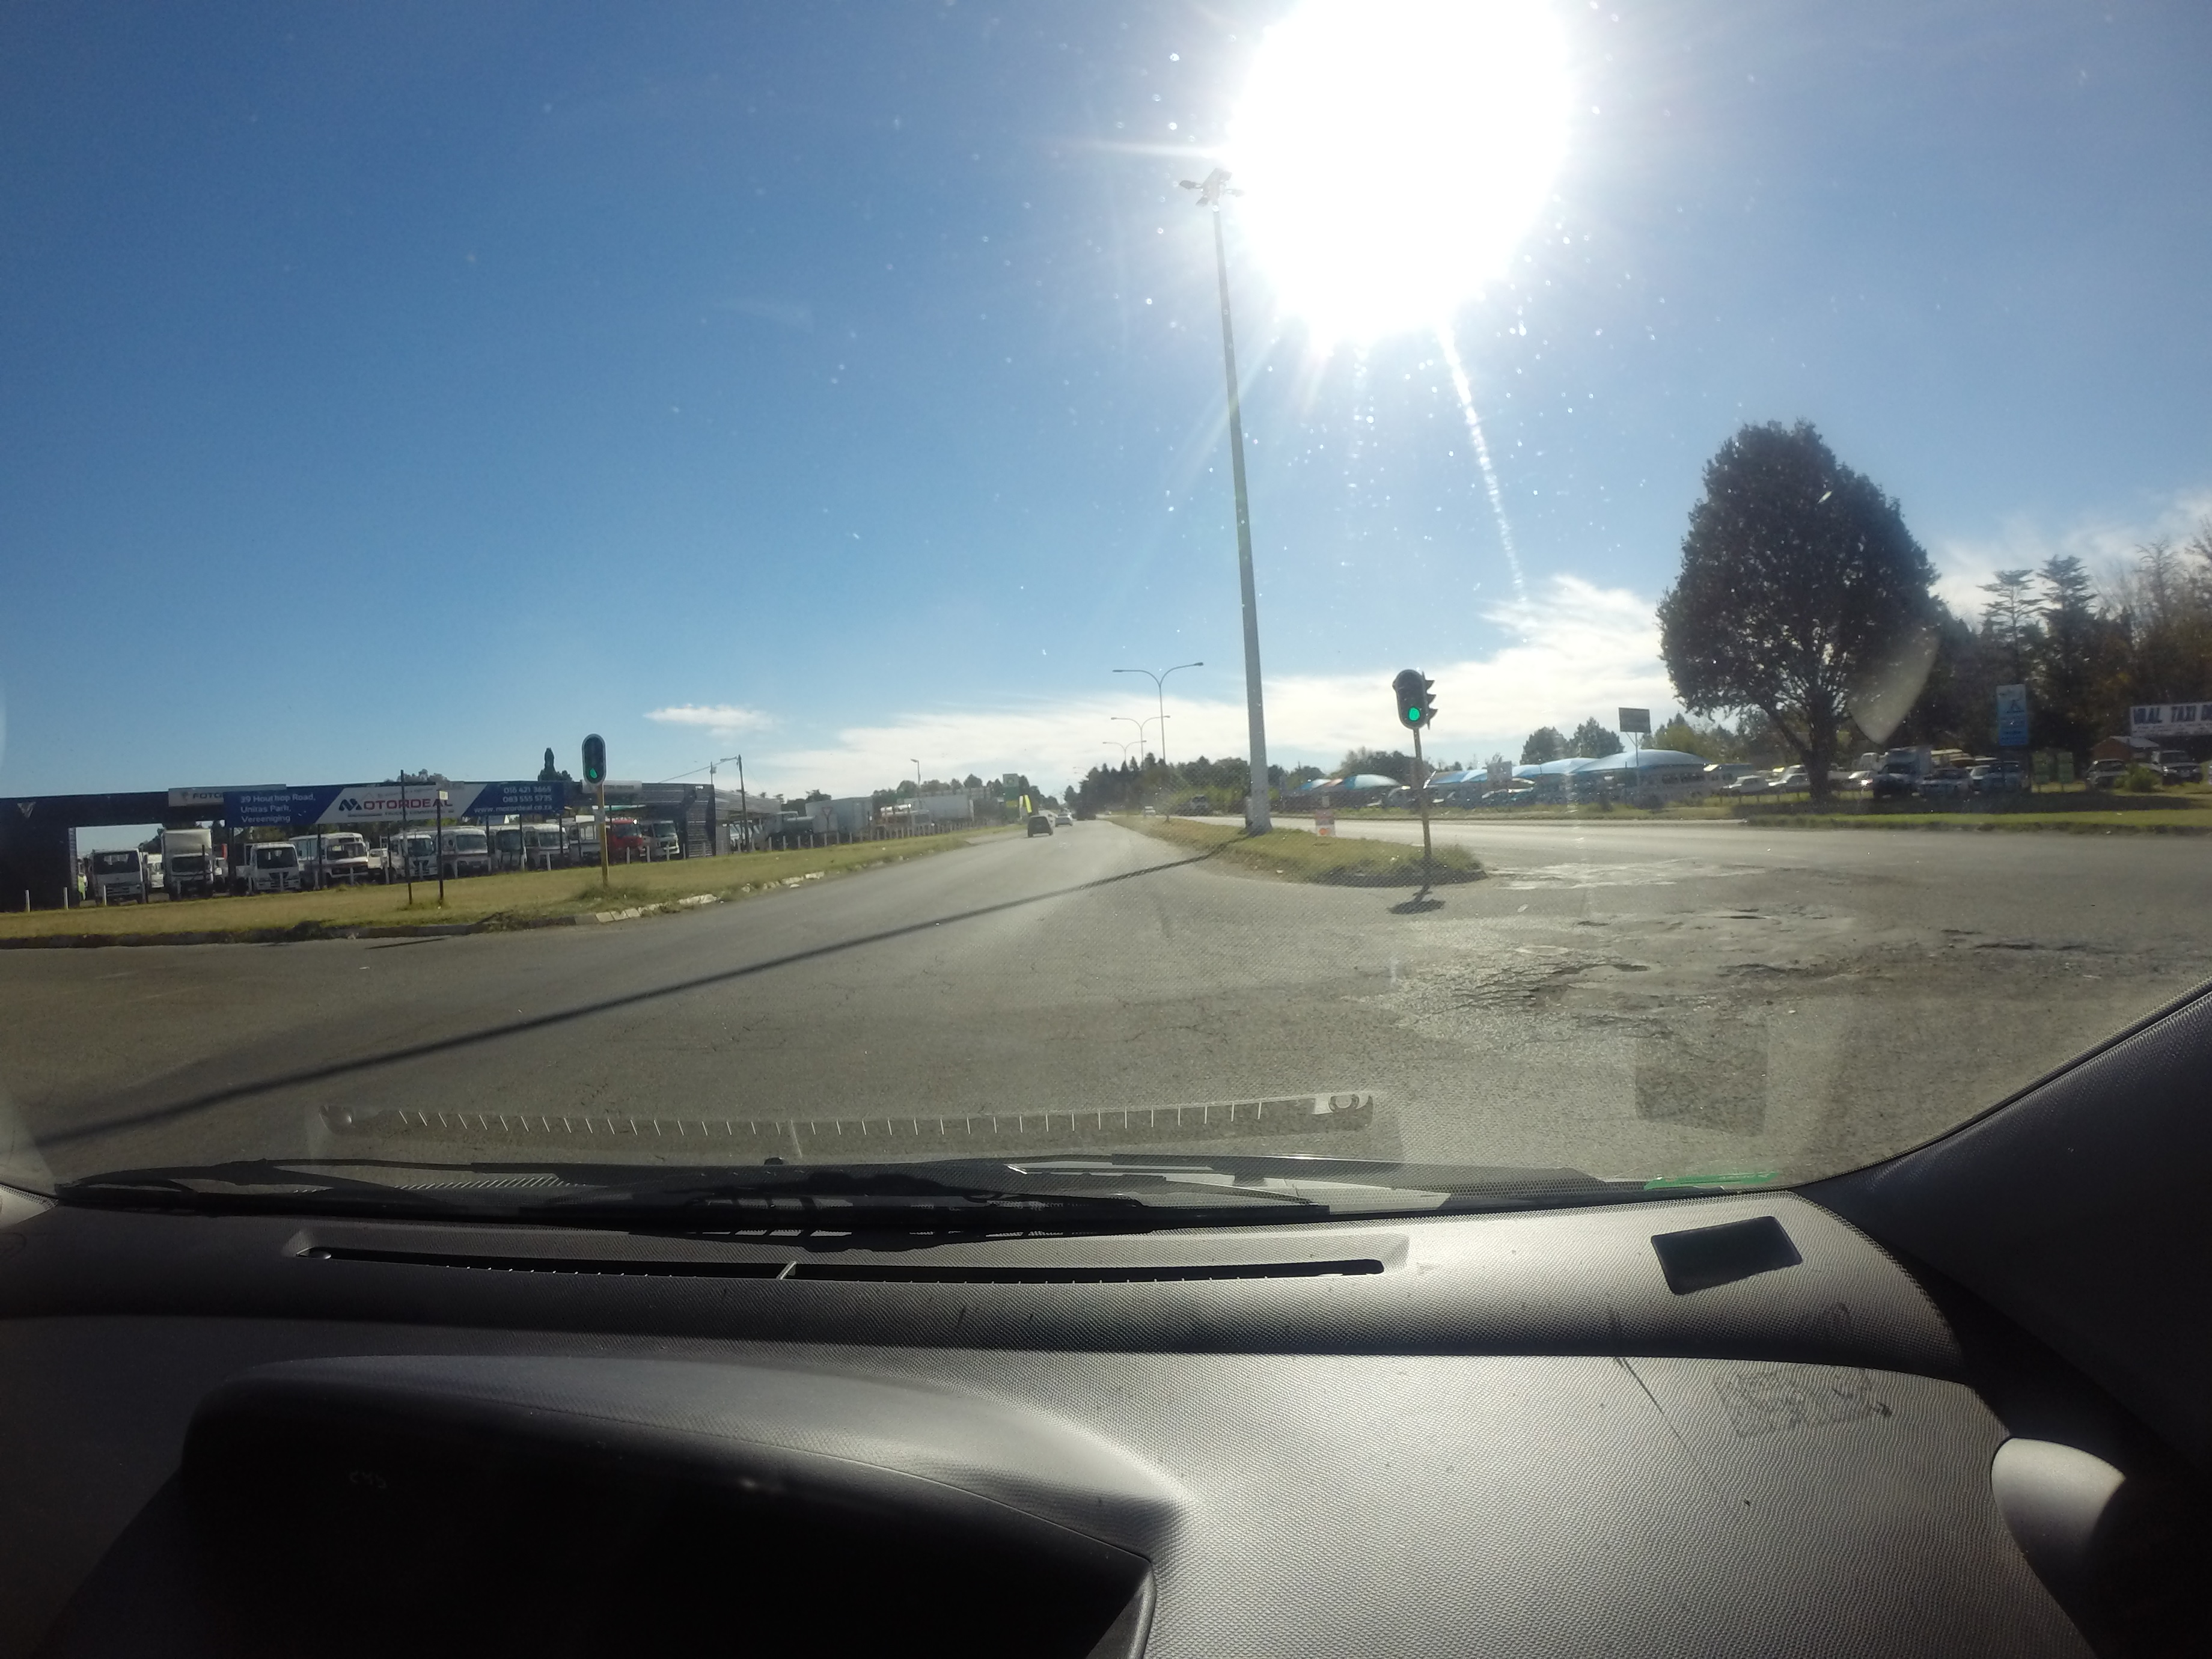pothole: (1601, 859, 2134, 1030), (1402, 934, 2179, 1018)
